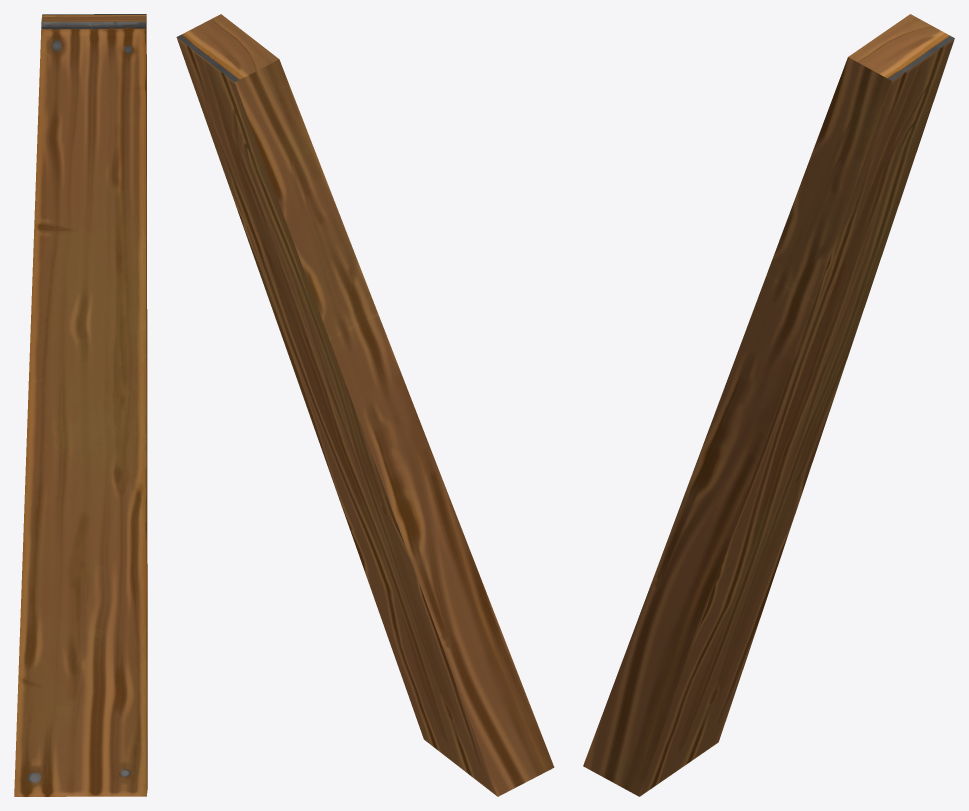
3 renders of one model, left to right at view 1: azimuth 30°, elevation 25°; view 2: azimuth 150°, elevation 25°; view 3: azimuth 270°, elevation 25°, orthographic. The views are drawn at different scales.
Parts seen in each view (by area): view 1: Cube.475; view 2: Cube.475; view 3: Cube.475.
Boxes of the visible parts, left/top/right/bottom form: Cube.475: left=14, top=14, right=147, bottom=796; Cube.475: left=176, top=14, right=554, bottom=796; Cube.475: left=583, top=14, right=954, bottom=796.
Size of the model in its own units: 85.14 by 239 by 102.
Materials: 1 (1 with a texture image).
